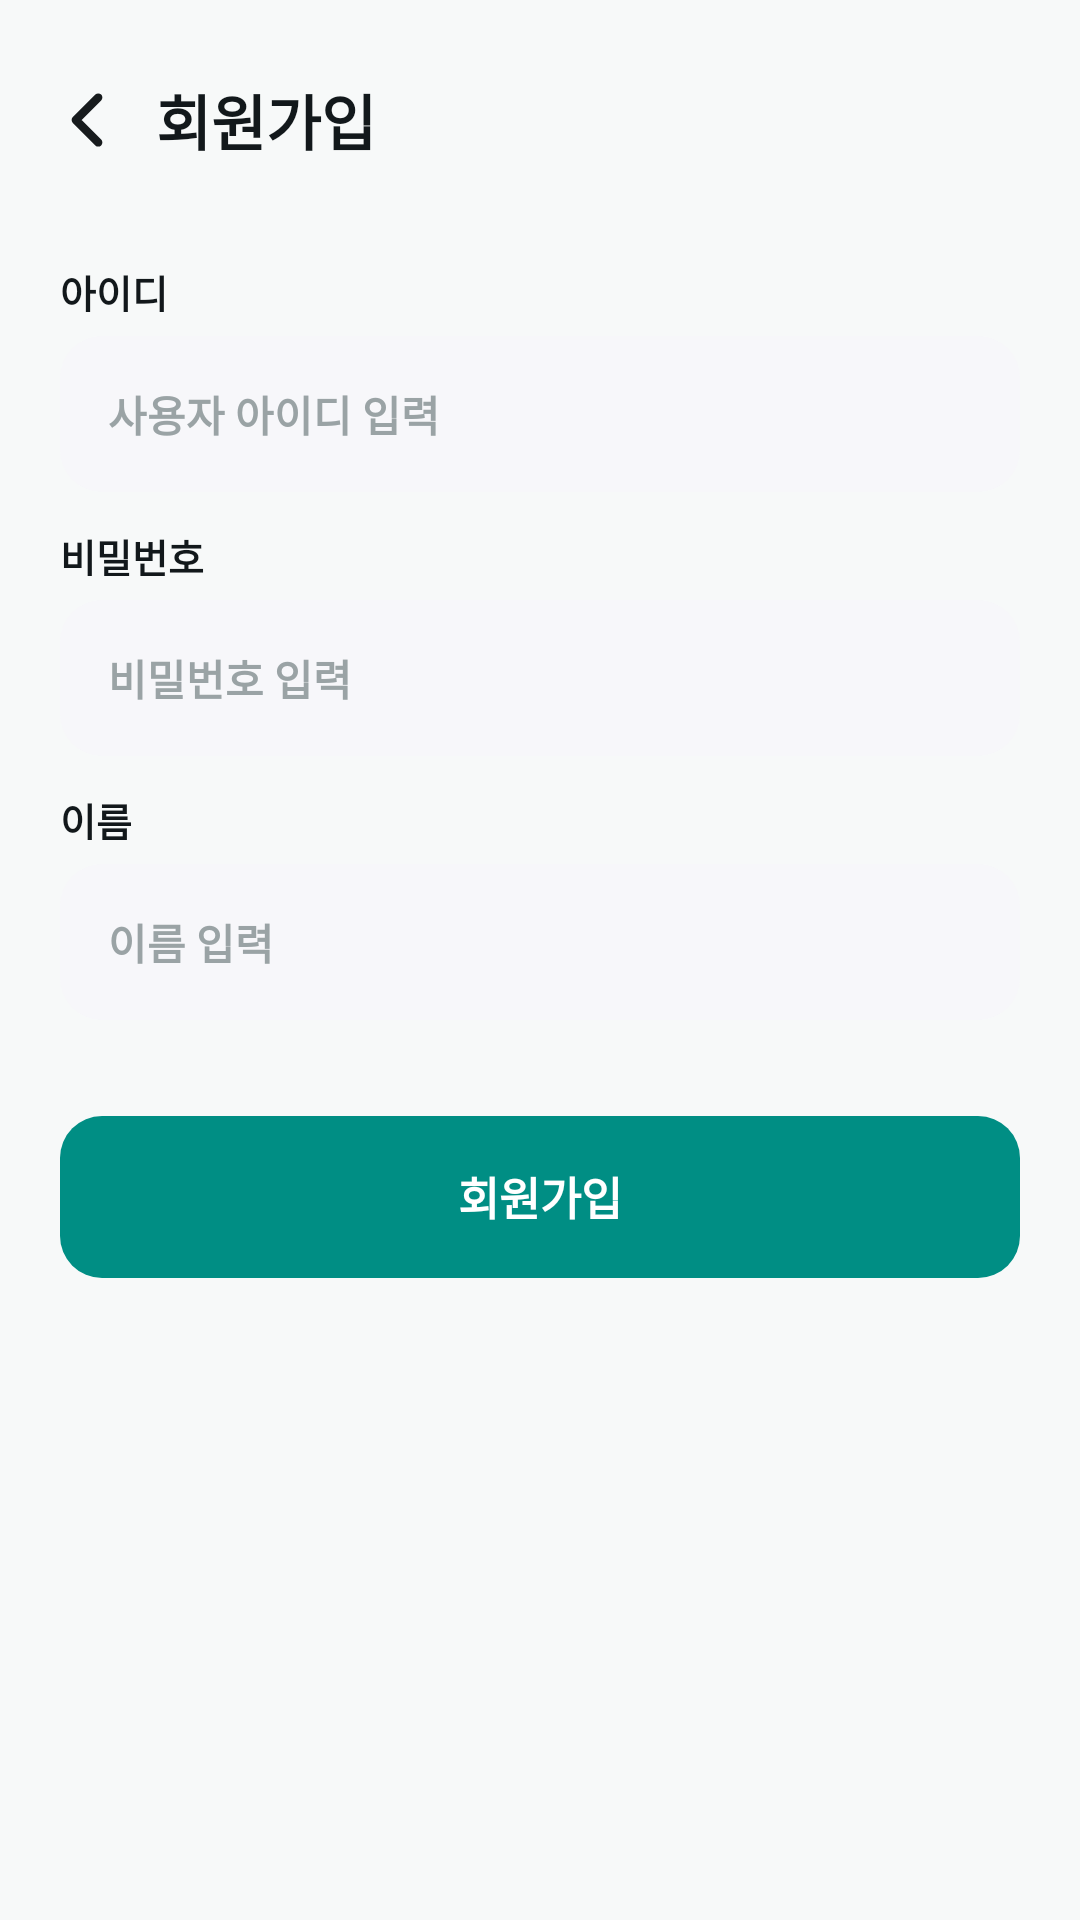

Screen size 1080 × 1920. Icon name, then its center in pixels as [x,y]:
chevron left: [87,120]
